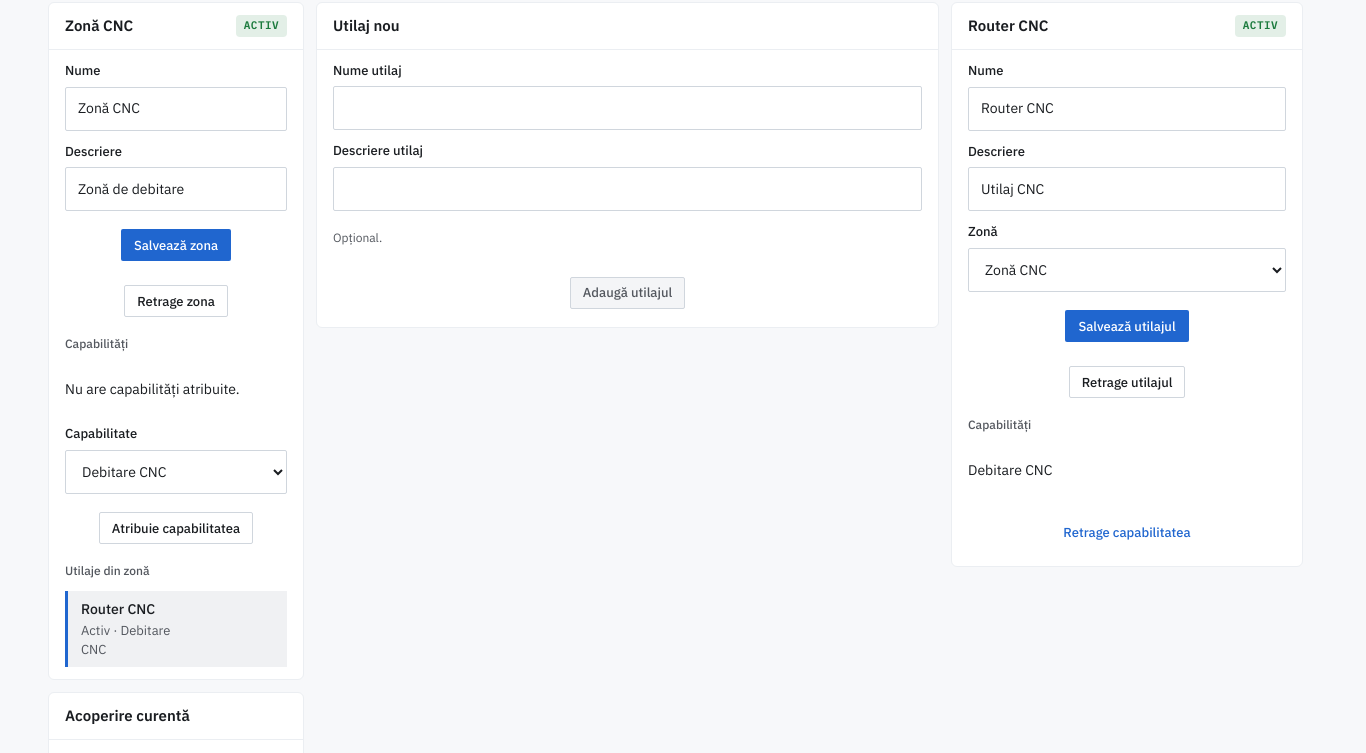
it: WorkcentersAdminPage › retires an unused machine in admin history and presents a conflict
This screenshot has width=1366, height=753.
(page scrolled)
What coordinates should you click on to do the following:
click the button "Retrage utilajul"
I would click on:
 (1127, 382)
Its box is [968,360,1286,404].
(page scrolled)
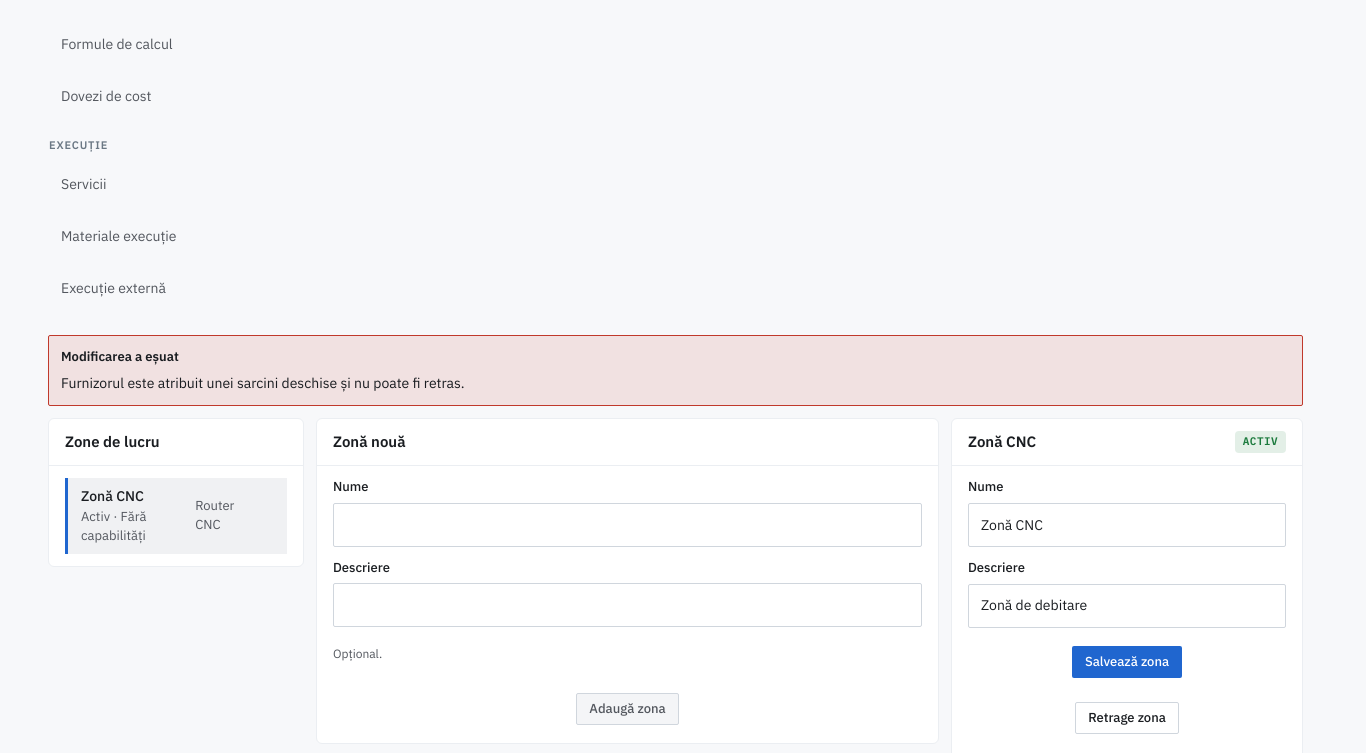
Check: the text "Furnizorul este atribuit unei sarcini deschise și nu poate fi retras." is shown, box [61,374,465,392]
